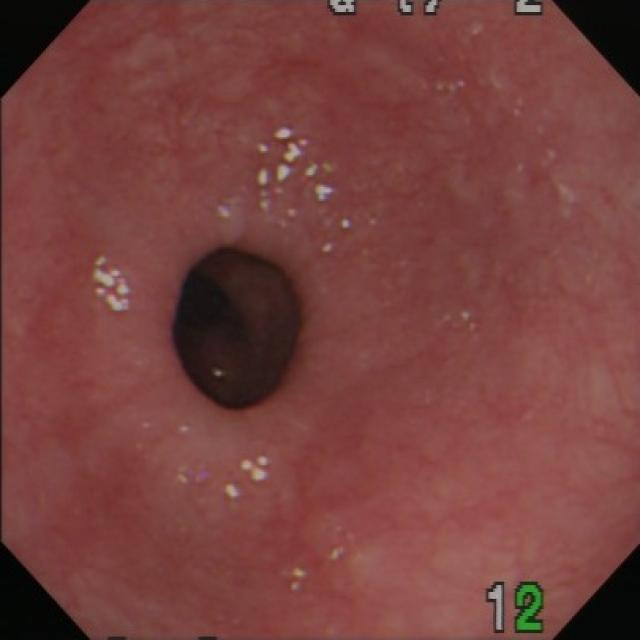E: (172, 246, 306, 418)
S: (488, 583, 549, 638), (327, 3, 548, 18)
U: (256, 126, 335, 229), (93, 255, 132, 315), (241, 454, 273, 485), (443, 308, 480, 334), (176, 464, 213, 487), (287, 566, 311, 595), (431, 78, 470, 94), (222, 483, 249, 502), (216, 197, 235, 221), (328, 543, 349, 564), (213, 368, 229, 379), (341, 219, 353, 231), (322, 243, 334, 255)
